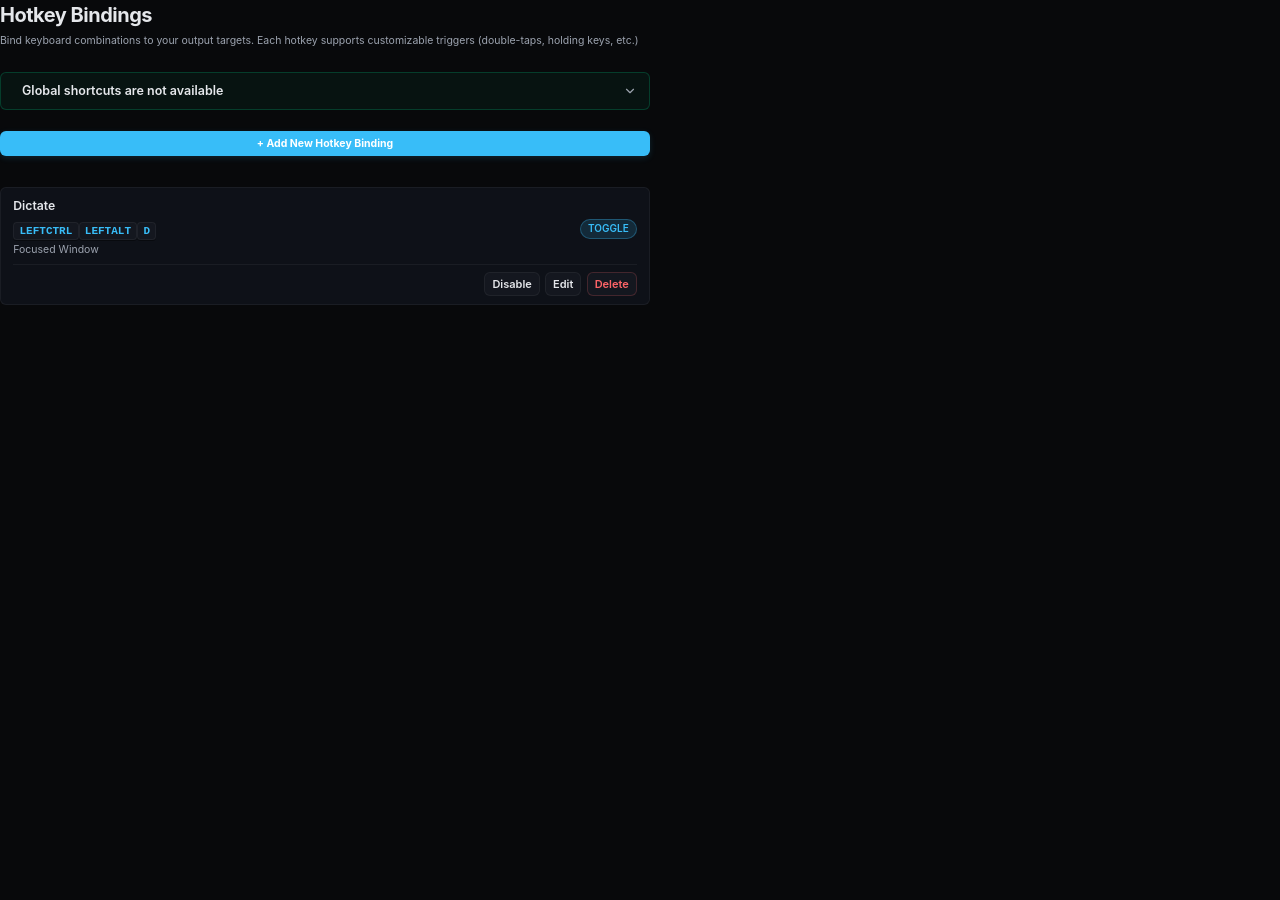
HotkeysTab.svelte Conflict Detection and Nested Modal › gesture styles the running backend cannot deliver › says why the missing styles are missing
The image size is (1280, 900).
Click the button "Edit": (563, 284) [545, 272, 581, 296]
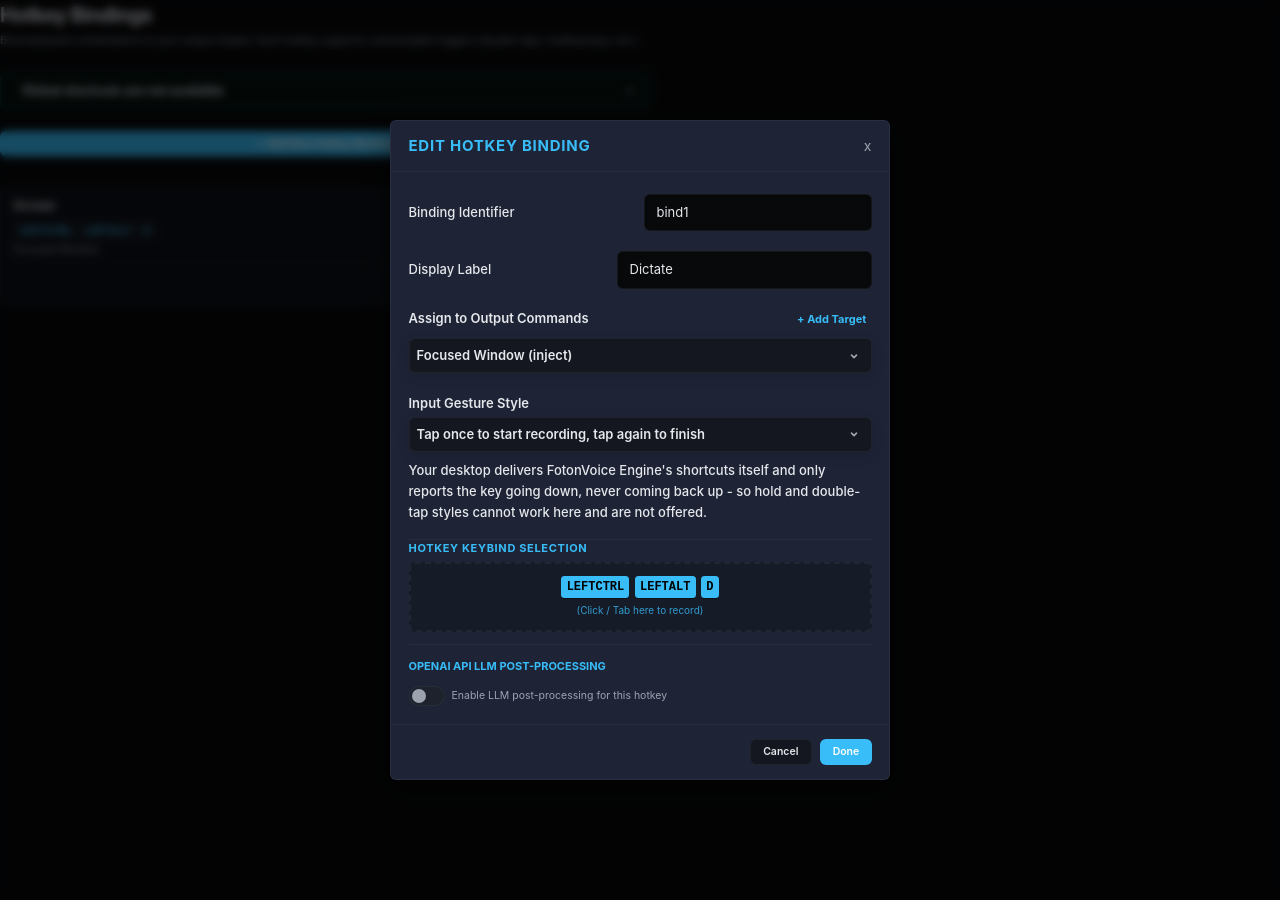
Result: the text "never coming back up" is shown at [408, 462, 860, 520]
